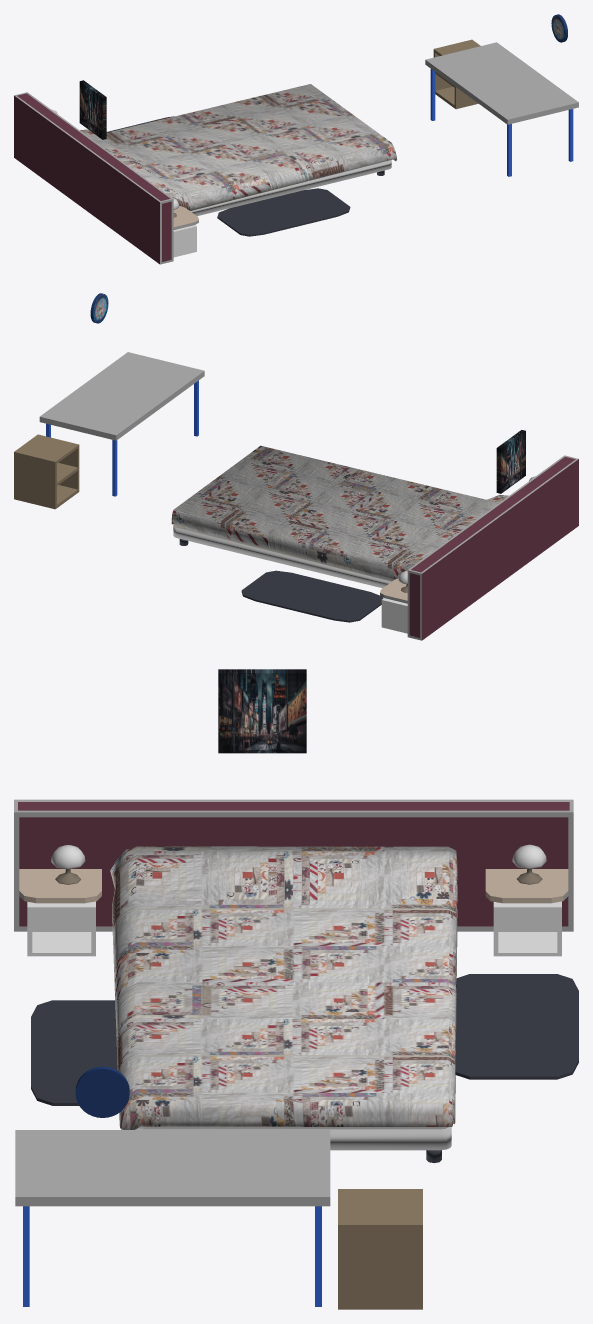
File: mobilier_chambre_1.fbx
The picture shows the model from 3 angles, top to bottom: view 1: azimuth 30°, elevation 25°; view 2: azimuth 150°, elevation 25°; view 3: azimuth 270°, elevation 25°; orthographic projection. The views are drawn at different scales.
Visible parts, largest first — view 1: Plane.097, tete_de_lit, bureau, Plane.096, Cube.020, tableau ny, etagere_cube, Cube.018, horloge; view 2: Plane.097, tete_de_lit, bureau, Plane.095, etagere_cube, Cube.020, tableau ny, Cube.017; view 3: Plane.097, tete_de_lit, bureau, Plane.095, etagere_cube, tableau ny, Plane.096, Cube.020, Cube.018, Cube.017, horloge, Cylinder.008 (+1 smaller).
Part boxes in pixels (x1,y1,x2,y2): Plane.097: (80,84,396,210); tete_de_lit: (14,92,198,264); bureau: (425,42,578,176); Plane.096: (217,188,350,236); Cube.020: (190,160,391,216); tableau ny: (79,80,106,139); etagere_cube: (433,39,480,109); Cube.018: (173,225,196,257); horloge: (551,14,567,42); Plane.097: (171,445,508,581); tete_de_lit: (380,455,578,640); bureau: (39,352,204,496); Plane.095: (241,570,383,622); etagere_cube: (14,434,79,509); Cube.020: (173,510,391,588); tableau ny: (496,430,525,493); Cube.017: (381,598,407,633); Plane.097: (110,846,457,1129); tete_de_lit: (14,799,573,931); bureau: (15,1130,330,1306); Plane.095: (455,974,578,1079); etagere_cube: (338,1189,422,1309); tableau ny: (218,669,306,753); Plane.096: (31,1000,117,1105); Cube.020: (135,1060,451,1163); Cube.018: (27,901,95,956); Cube.017: (493,901,561,956); horloge: (75,1066,129,1117); Cylinder.008: (51,845,85,884).
Size of the model in its own units: 2294 by 660 by 1368.
